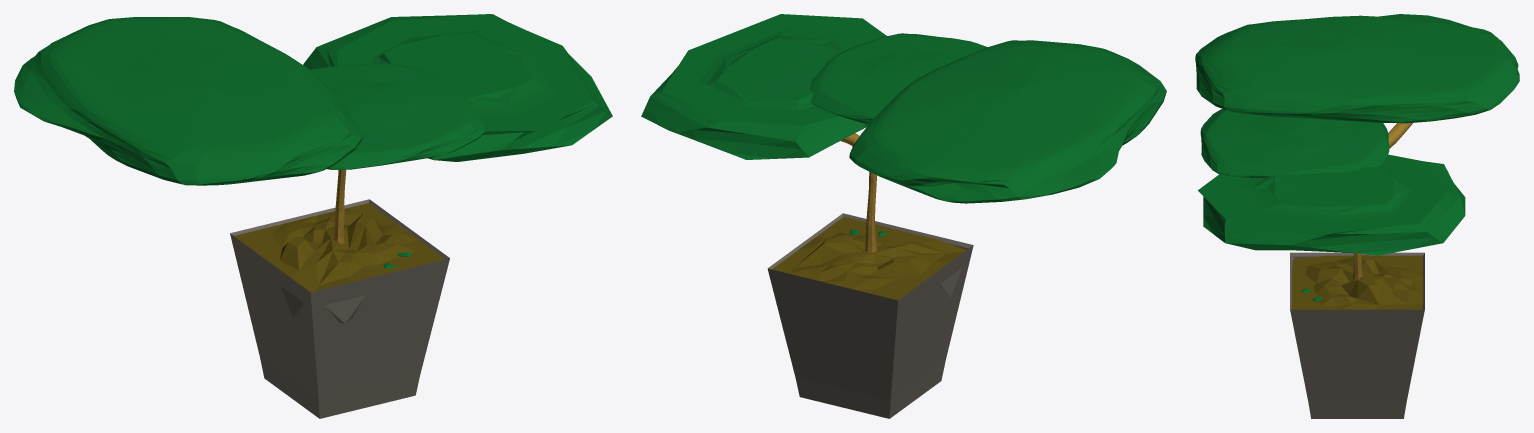
Rendered from bcagan.dae.
The picture shows the model from 3 angles, left to right: view 1: azimuth 30°, elevation 25°; view 2: azimuth 150°, elevation 25°; view 3: azimuth 270°, elevation 25°; orthographic projection. The views are drawn at different scales.
Parts seen in each view (by area): view 1: Canopy_3-S3D-27-FLIPPED, Pot-S3D-19, Canopy_1-S3D-24, Canpoy_2-S3D-25-FLIPPED, Dirt-S3D-26, Root_Branch-S3D-20-FLIPPED; view 2: Canopy_3-S3D-27-FLIPPED, Canopy_1-S3D-24, Pot-S3D-19, Dirt-S3D-26, Canpoy_2-S3D-25-FLIPPED, Root_Branch-S3D-20-FLIPPED; view 3: Canopy_3-S3D-27-FLIPPED, Canopy_1-S3D-24, Pot-S3D-19, Canpoy_2-S3D-25-FLIPPED, Dirt-S3D-26, Branch_2-S3D-23-FLIPPED.
Boxes of the visible parts, bbox=[...] form: Canopy_3-S3D-27-FLIPPED: bbox=[14, 17, 362, 185]; Pot-S3D-19: bbox=[230, 199, 449, 418]; Canopy_1-S3D-24: bbox=[303, 14, 612, 161]; Canpoy_2-S3D-25-FLIPPED: bbox=[310, 63, 485, 169]; Dirt-S3D-26: bbox=[234, 203, 444, 292]; Root_Branch-S3D-20-FLIPPED: bbox=[333, 169, 346, 243]; Canopy_3-S3D-27-FLIPPED: bbox=[849, 40, 1166, 203]; Canopy_1-S3D-24: bbox=[641, 14, 886, 159]; Pot-S3D-19: bbox=[767, 213, 973, 418]; Dirt-S3D-26: bbox=[772, 217, 966, 300]; Canpoy_2-S3D-25-FLIPPED: bbox=[809, 33, 987, 124]; Root_Branch-S3D-20-FLIPPED: bbox=[864, 172, 877, 252]; Canopy_3-S3D-27-FLIPPED: bbox=[1195, 14, 1519, 123]; Canopy_1-S3D-24: bbox=[1198, 154, 1465, 255]; Pot-S3D-19: bbox=[1290, 252, 1424, 418]; Canpoy_2-S3D-25-FLIPPED: bbox=[1200, 109, 1389, 177]; Dirt-S3D-26: bbox=[1292, 255, 1423, 309]; Branch_2-S3D-23-FLIPPED: bbox=[1388, 122, 1413, 148].
Bounding box in the file's own units: 5.15 × 3.45 × 3.5.
